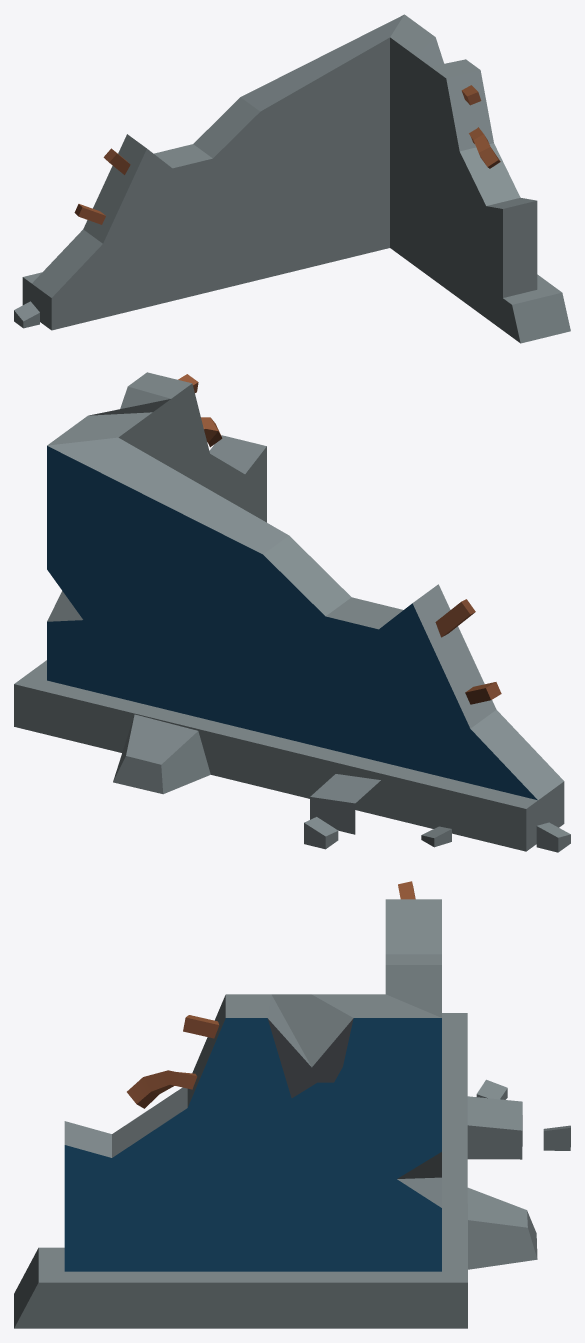
Rendered from BuildingRuin_01.fbx.
3 views of the same model, one above another, from view 1: azimuth 30°, elevation 25°; view 2: azimuth 150°, elevation 25°; view 3: azimuth 270°, elevation 25° (orthographic). The views are drawn at different scales.
Parts seen in each view (by area): view 1: BuildingRuin_01; view 2: BuildingRuin_01; view 3: BuildingRuin_01.
Part boxes in pixels (x1,y1,x2,y2): BuildingRuin_01: (14,14,570,343); BuildingRuin_01: (14,372,570,852); BuildingRuin_01: (14,881,570,1328).
Bounding box in the file's own units: 3.93 × 3.28 × 1.97.
